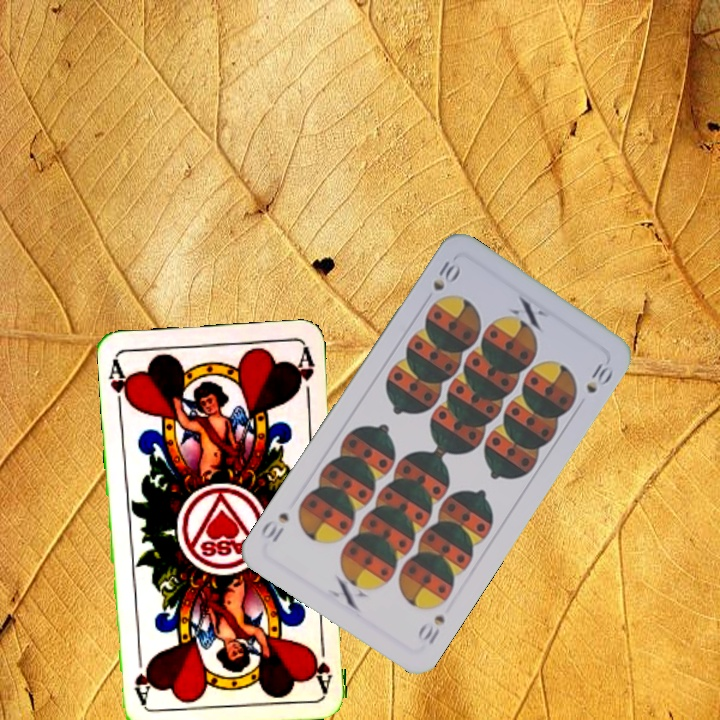HA: (105, 356, 134, 415), (308, 633, 335, 693)
S10: (413, 611, 448, 648), (428, 256, 461, 294)
